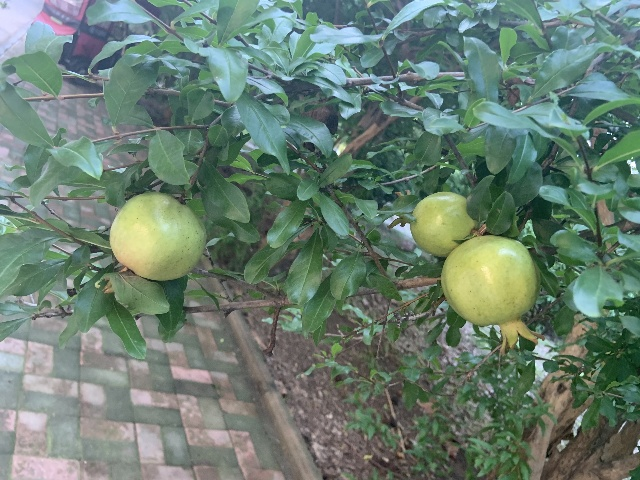mid-growth: (440, 235, 544, 356), (101, 192, 206, 294), (410, 190, 481, 255)
